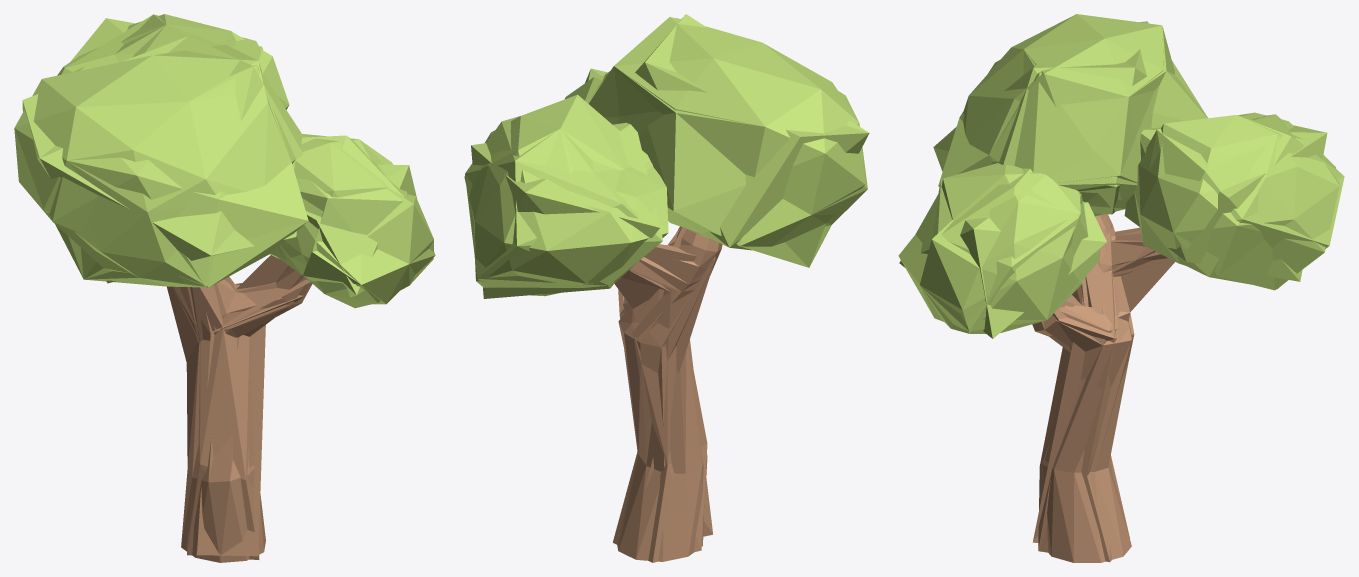
Rendered from tree-a.glb.
3 renders of one model, left to right at view 1: azimuth 30°, elevation 25°; view 2: azimuth 150°, elevation 25°; view 3: azimuth 270°, elevation 25°, orthographic. The views are drawn at different scales.
Parts seen in each view (by area): view 1: leafs, leafs.001, leafs.002, tree-a_0_0.25, tree-a_1_0.1, tree-a_2_; view 2: leafs, tree-a_0_0.25, leafs.001, leafs.002, tree-a_1_0.1, tree-a_2_; view 3: leafs, leafs.001, tree-a_0_0.25, leafs.002, tree-a_1_0.1, tree-a_2_.
Boxes of the visible parts, x1,y1,x2,y2 form: leafs: (14,14,433,308); leafs.001: (21,14,435,304); leafs.002: (22,18,416,297); tree-a_0_0.25: (174,266,312,562); tree-a_1_0.1: (173,276,308,559); tree-a_2_: (167,255,310,556); leafs: (464,17,865,296); tree-a_0_0.25: (617,226,722,561); leafs.001: (465,18,867,288); leafs.002: (471,14,869,298); tree-a_1_0.1: (613,227,715,562); tree-a_2_: (614,227,714,536); leafs: (898,14,1339,333); leafs.001: (899,25,1344,331); tree-a_0_0.25: (1032,214,1170,562); leafs.002: (899,21,1327,338); tree-a_1_0.1: (1038,214,1155,562); tree-a_2_: (1032,224,1174,542).
Bounding box in the file's own units: 7.13 × 9.65 × 8.14.
